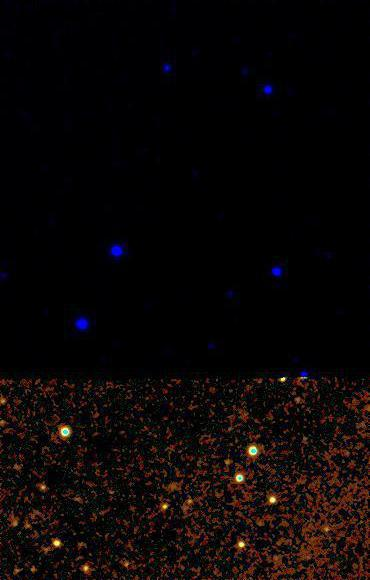star: (269, 364, 299, 394)
